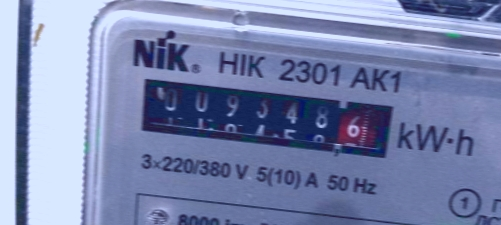0: (163, 82, 178, 110), (193, 86, 210, 110)
3: (253, 92, 270, 119)
4: (283, 95, 300, 123)
6: (344, 109, 364, 138)
8: (312, 99, 330, 129)
9: (222, 89, 240, 117)
screen: (128, 67, 403, 166)
